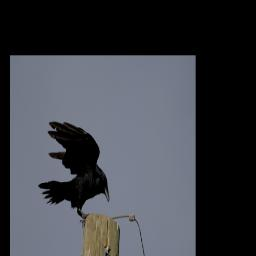Crow: (36, 120, 110, 226)
